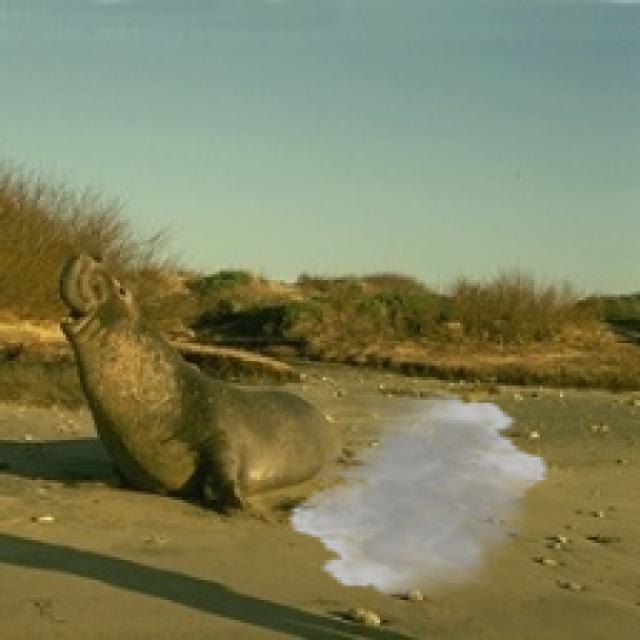smoke: (286, 389, 551, 600)
